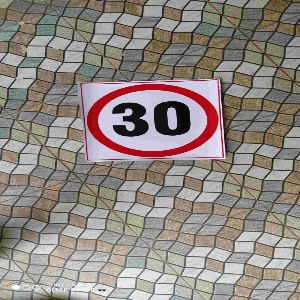speedlimit30: (80, 82, 225, 158)
